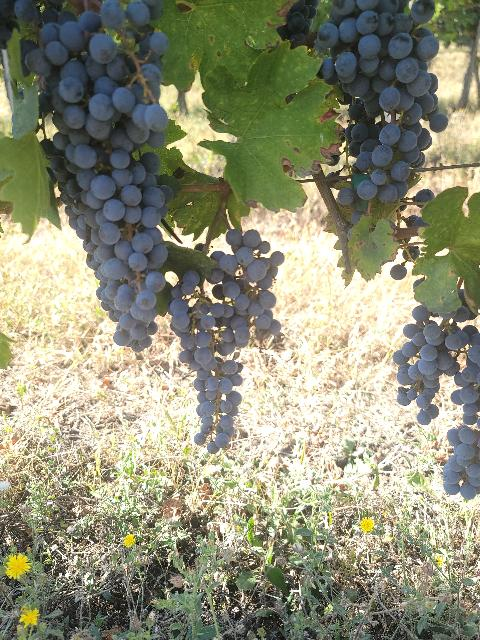grapes: (20, 0, 176, 349), (315, 0, 439, 116), (169, 270, 244, 454), (392, 304, 469, 425), (211, 229, 284, 346), (442, 325, 480, 500), (349, 122, 421, 204)
